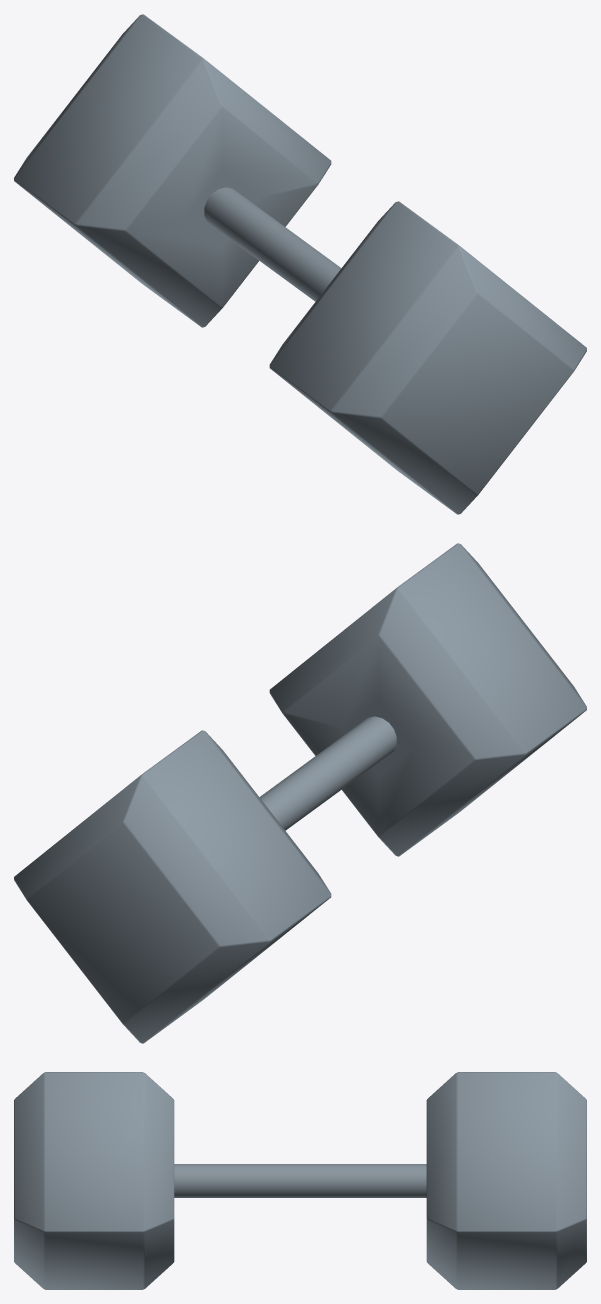
File: Dumbbell2(FBX).FBX
3 renders of one model, top to bottom at view 1: azimuth 30°, elevation 25°; view 2: azimuth 150°, elevation 25°; view 3: azimuth 270°, elevation 25°, orthographic. The views are drawn at different scales.
Visible parts, largest first — view 1: Cylinder001; view 2: Cylinder001; view 3: Cylinder001.
Boxes of the visible parts, x1=… form: Cylinder001: x1=14, y1=14, x2=586, y2=514; Cylinder001: x1=14, y1=543, x2=586, y2=1043; Cylinder001: x1=14, y1=1072, x2=586, y2=1289.
Bounding box in the file's own units: 9.93 × 9.93 × 23.76.
